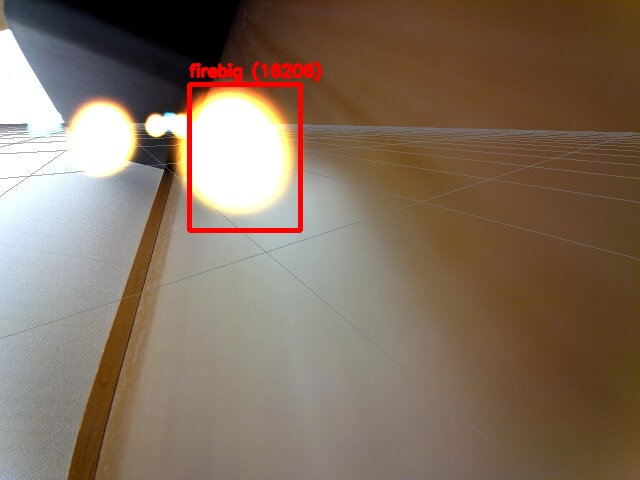firebig: (189, 84, 300, 230)
